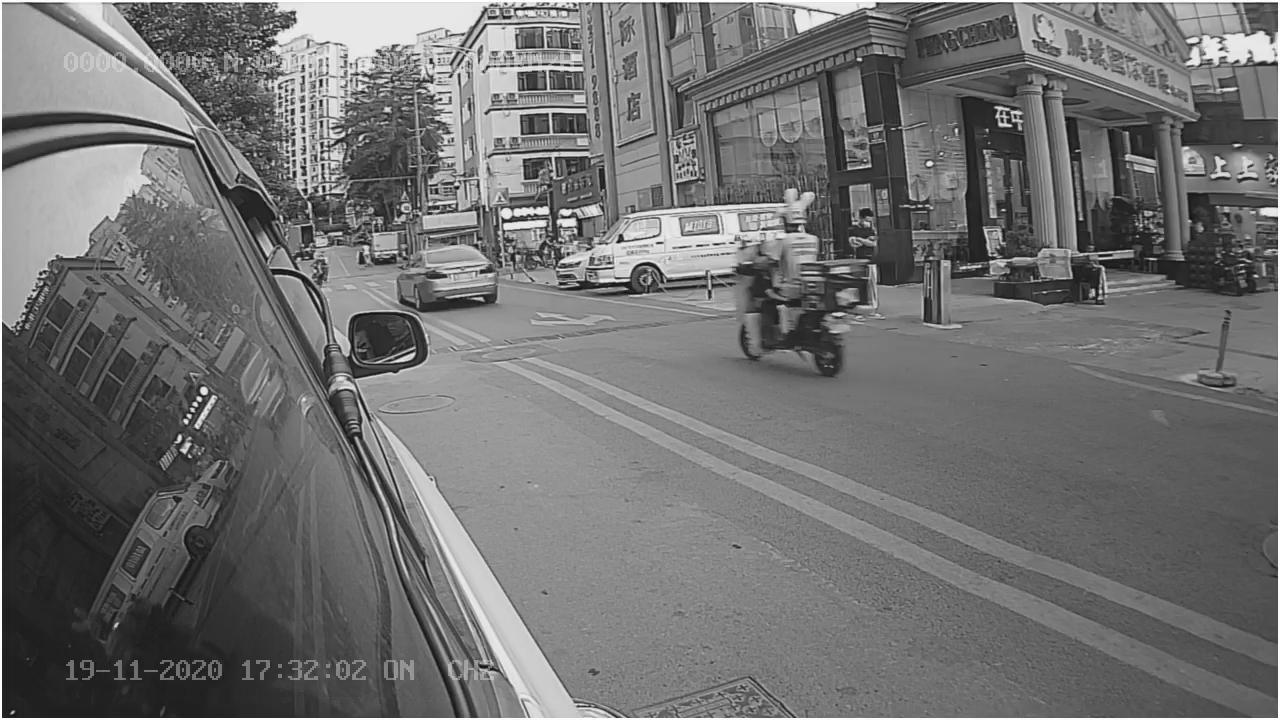person: (761, 199, 822, 272)
